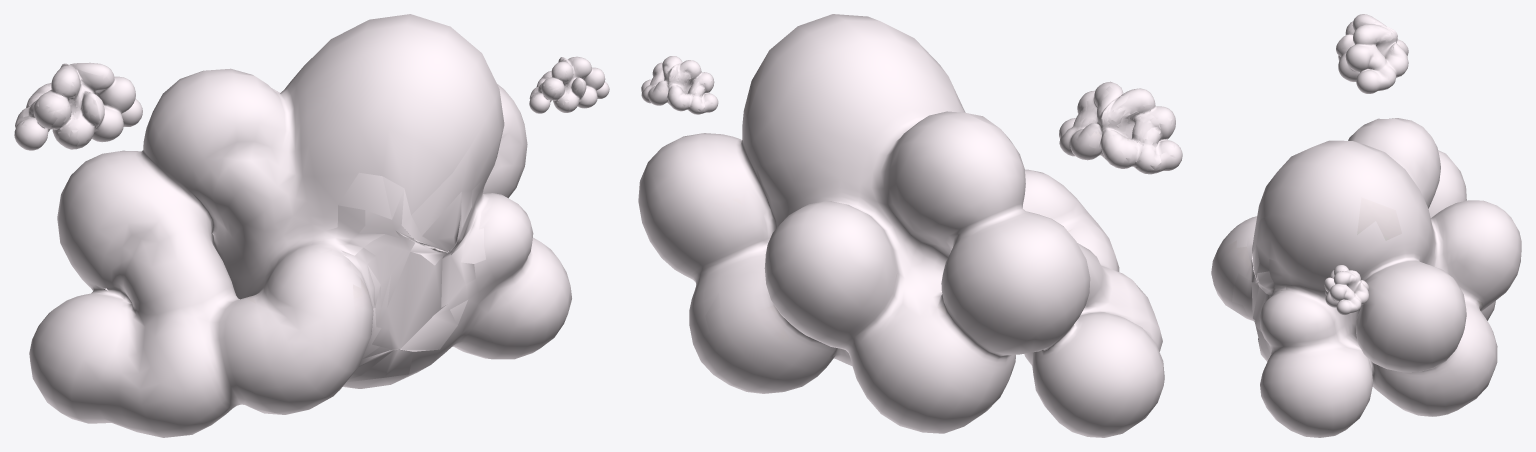
The model's file is Clouds.glb.
The picture shows the model from 3 angles, left to right: view 1: azimuth 30°, elevation 25°; view 2: azimuth 150°, elevation 25°; view 3: azimuth 270°, elevation 25°; orthographic projection. The views are drawn at different scales.
Visible parts, largest first — view 1: Clouds; view 2: Clouds; view 3: Clouds.
Part boxes in pixels (x1=…): Clouds: x1=14, y1=14, x2=609, y2=437; Clouds: x1=638, y1=14, x2=1182, y2=437; Clouds: x1=1211, y1=14, x2=1521, y2=437.
Size of the model in its own units: 0.8744 by 0.5238 by 0.5442.
Materials: 1 (1 with a texture image).
